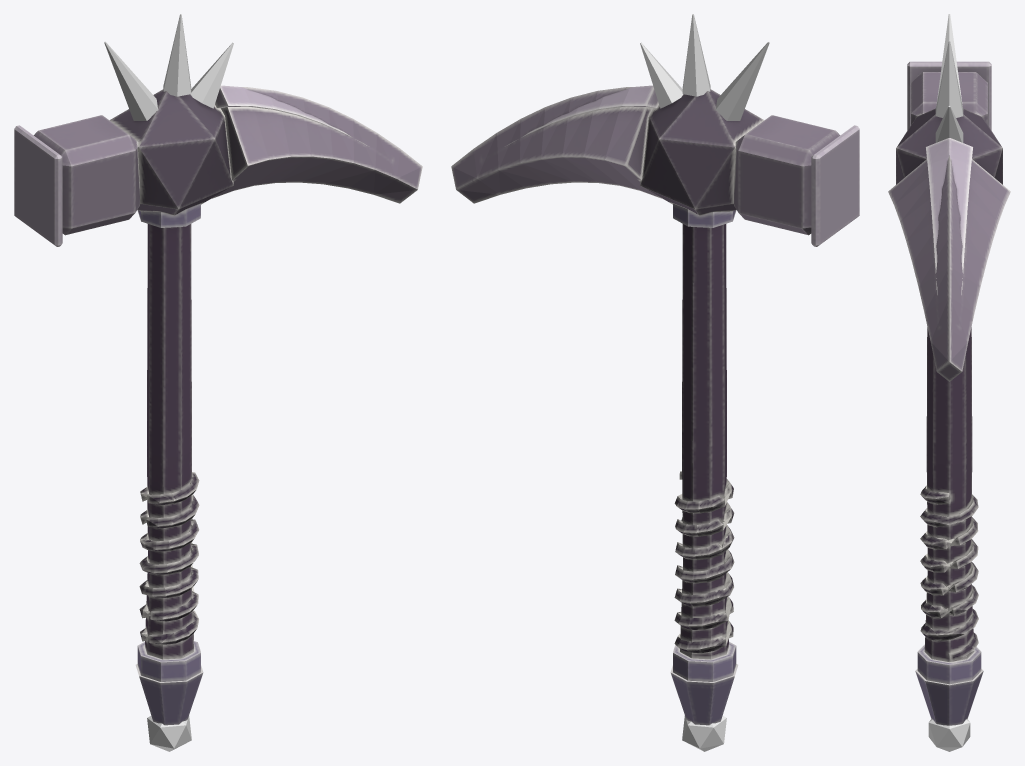
File: GeodePickaxe.glb
3 renders of one model, left to right at view 1: azimuth 30°, elevation 25°; view 2: azimuth 150°, elevation 25°; view 3: azimuth 270°, elevation 25°, orthographic. The views are drawn at different scales.
Parts seen in each view (by area): view 1: Body__Tex, Head__Crystal, Head__Gem; view 2: Body__Tex, Head__Crystal, Head__Gem; view 3: Body__Tex, Head__Crystal, Head__Gem.
Boxes of the visible parts, bbox=[...] form: Body__Tex: bbox=[14, 85, 422, 725]; Head__Crystal: bbox=[104, 14, 233, 120]; Head__Gem: bbox=[147, 715, 191, 751]; Body__Tex: bbox=[451, 85, 859, 725]; Head__Crystal: bbox=[640, 14, 769, 120]; Head__Gem: bbox=[682, 715, 726, 751]; Body__Tex: bbox=[888, 61, 1010, 725]; Head__Crystal: bbox=[935, 14, 963, 142]; Head__Gem: bbox=[928, 719, 970, 751].
Size of the model in its own units: 2.49 by 4.5 by 0.7.
Materials: 1 (1 with a texture image).
